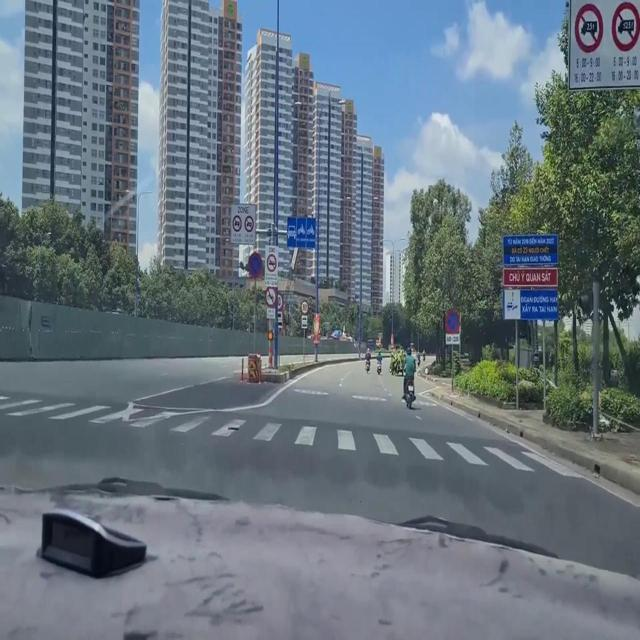Biển phụ: (263, 305, 277, 321), (300, 311, 309, 332), (444, 332, 461, 342), (277, 310, 283, 326)
Cấm các phương tiện hoạt động trong khung giờ cố định: (229, 201, 257, 244), (264, 242, 281, 288)
Cấm dừng - Cấm đỗ: (245, 246, 263, 280), (442, 302, 461, 333)
Cấm xe máy: (263, 285, 278, 306)
Giới hạn tốc độ: 80Km/h: (299, 298, 310, 314)
Khác: (500, 228, 560, 322)
Làn đường cho từng xe: (285, 210, 318, 251)
